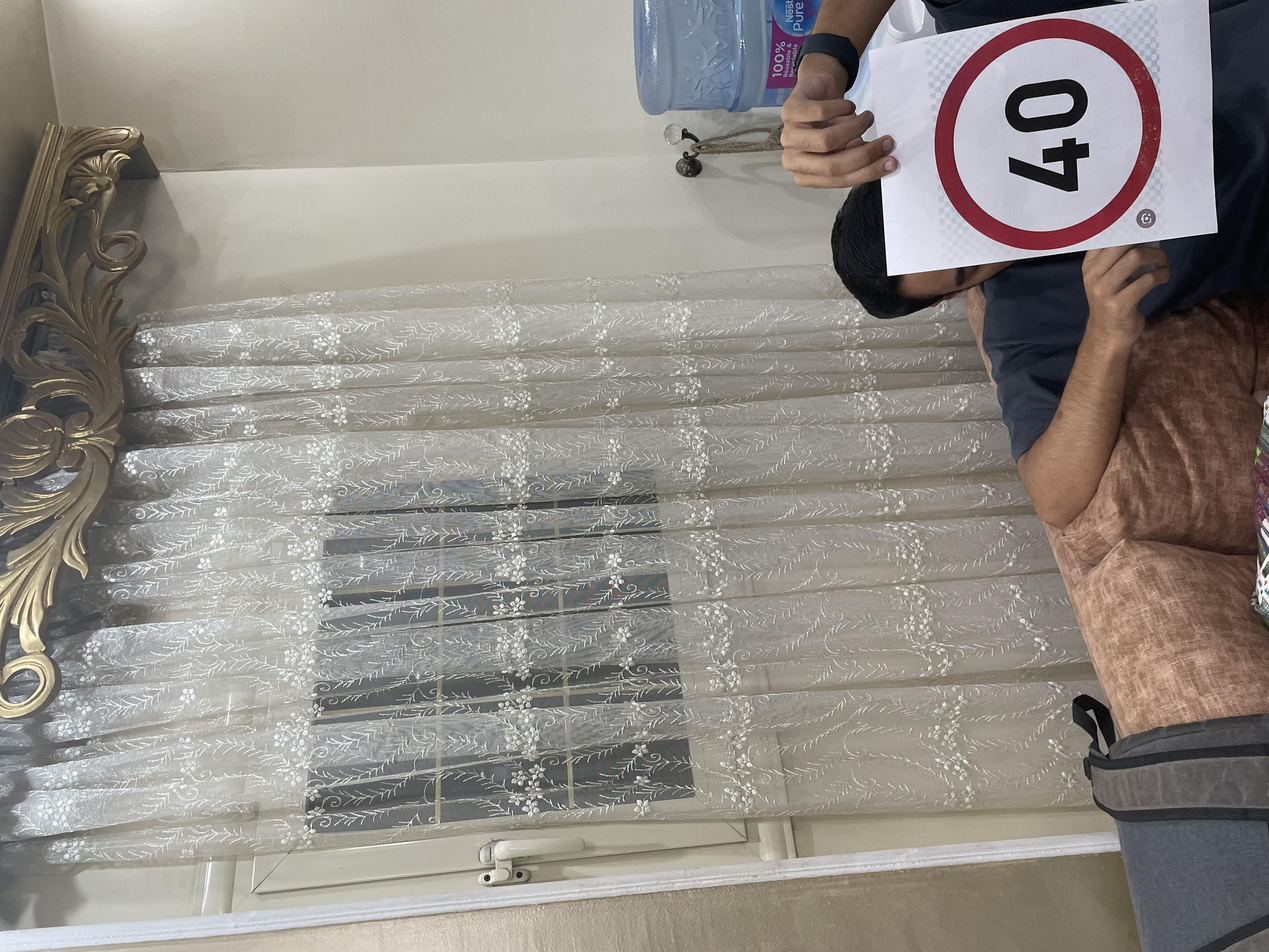40-Speed: (937, 685, 1254, 878)
